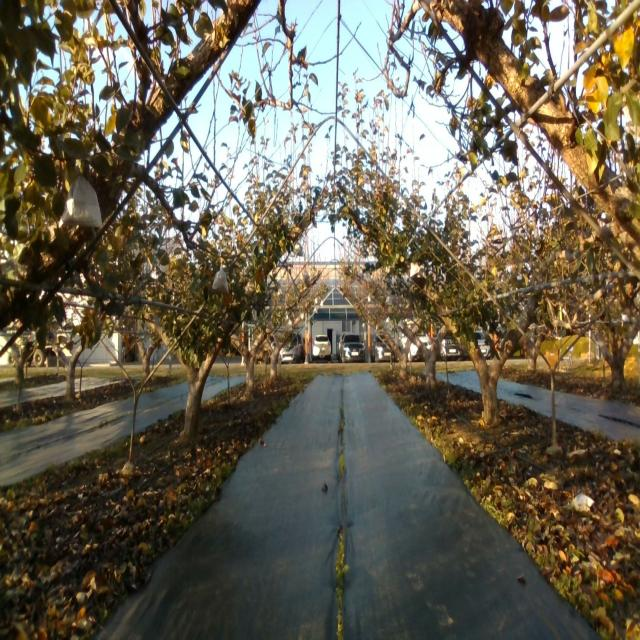pearbags: (62, 178, 103, 228), (212, 268, 228, 294)
